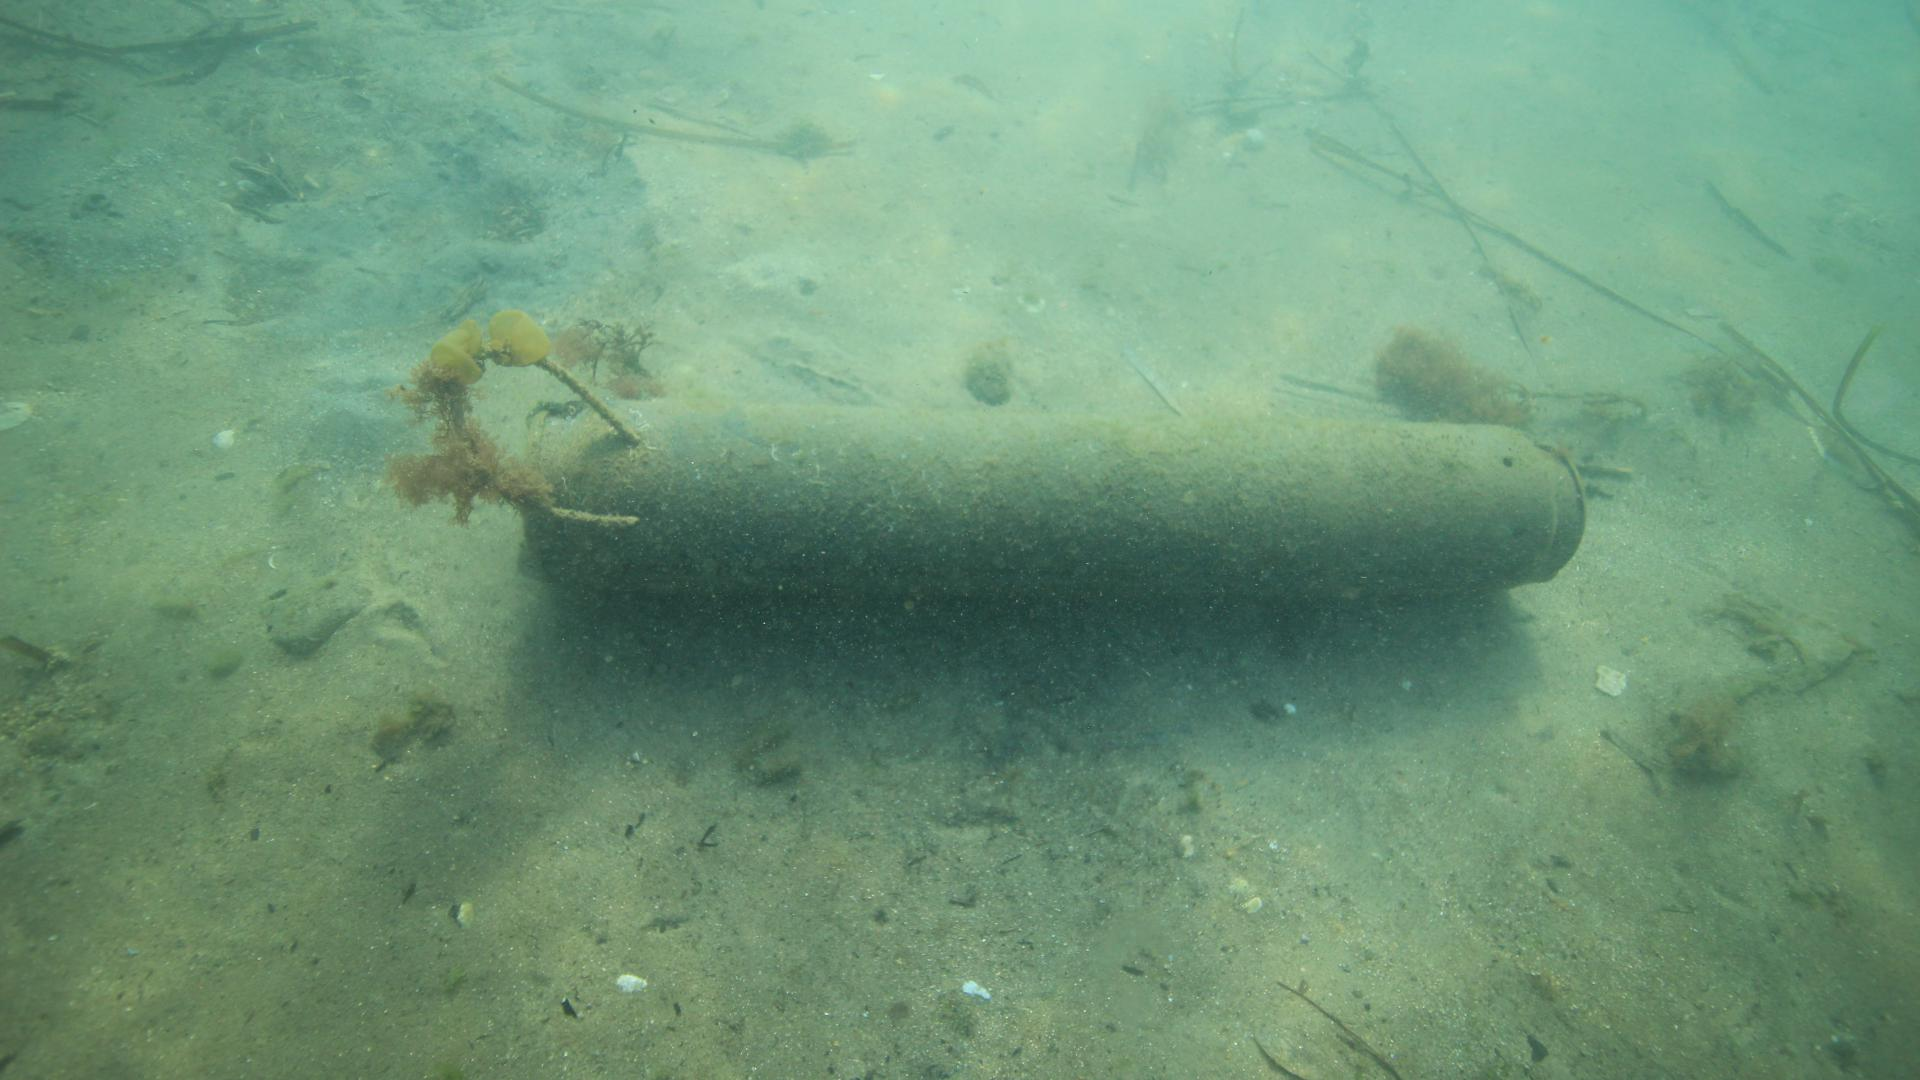eel fish trap: (513, 398, 1584, 607)
rope: (440, 330, 646, 527)
